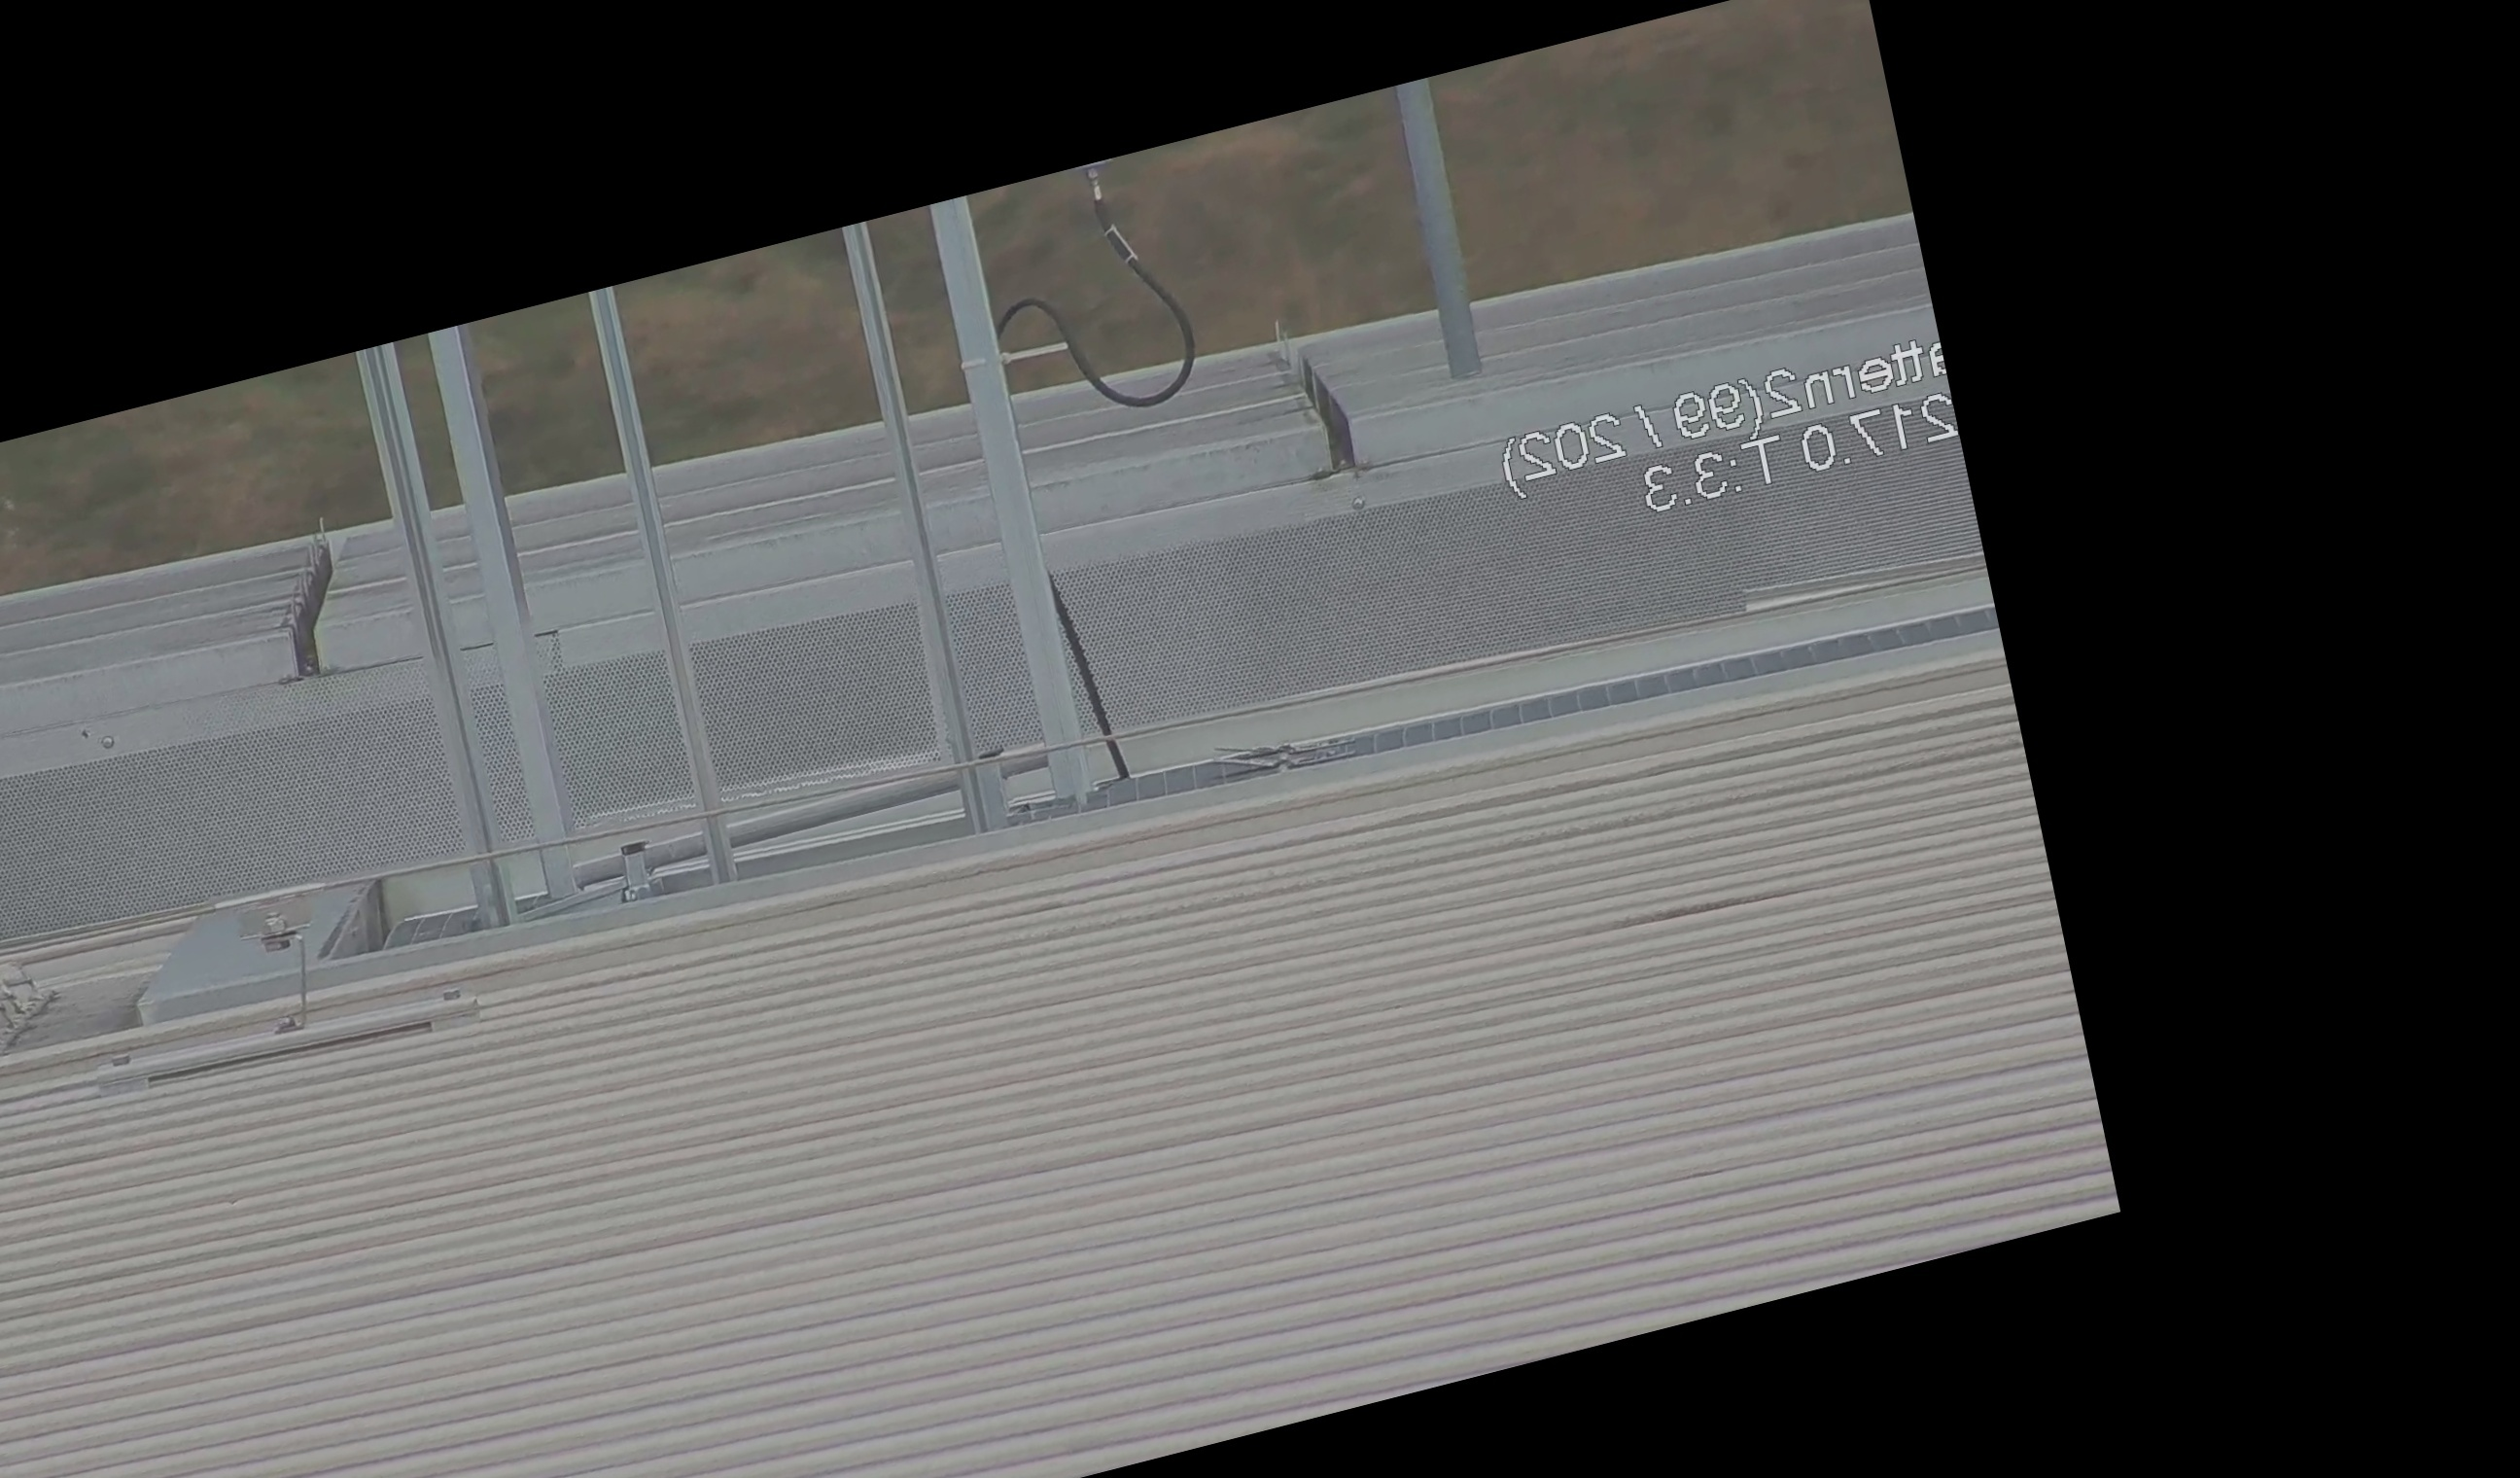Other: (241, 517, 364, 686)
